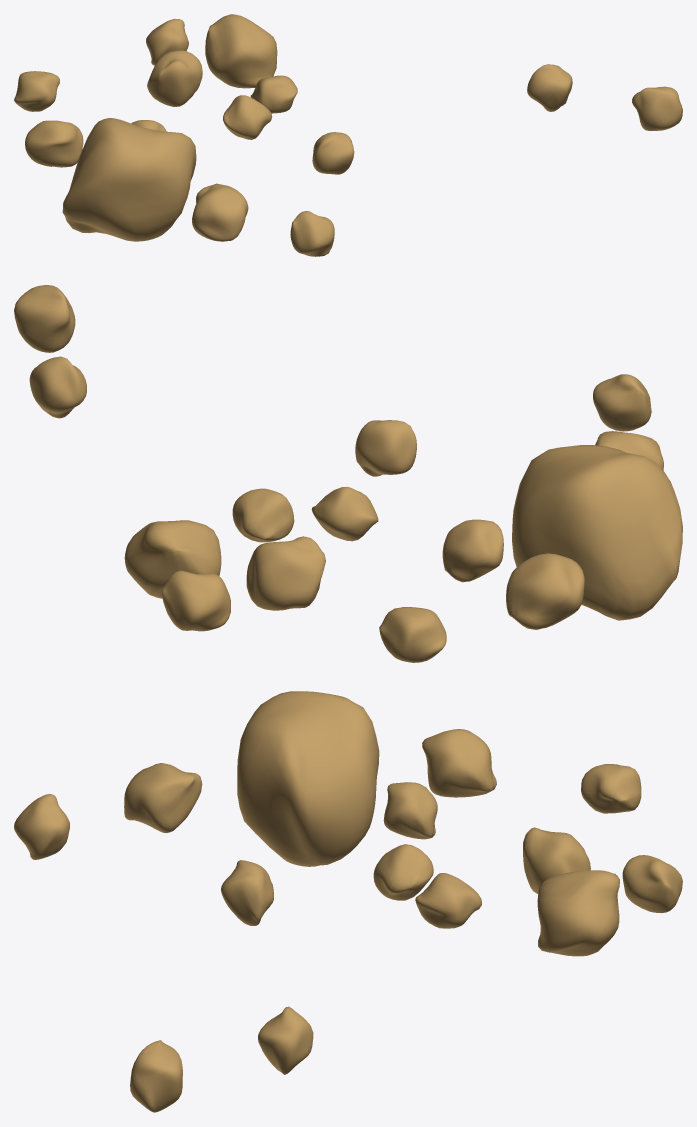
File: Rocks.FBX
The picture shows the model from 3 angles, top to bottom: view 1: azimuth 30°, elevation 25°; view 2: azimuth 150°, elevation 25°; view 3: azimuth 270°, elevation 25°; orthographic projection. The views are drawn at different scales.
Visible parts, largest first — view 1: Sphere002, Sphere005, Sphere004, Sphere010, Sphere013, Sphere003, Sphere011, Sphere012, Sphere016, Sphere017, Sphere014, Sphere006 (+1 smaller); view 2: Sphere002, Sphere005, Sphere010, Sphere013, Sphere018, Sphere003, Sphere007, Sphere017, Sphere014, Sphere006, Sphere011, Sphere012 (+2 smaller); view 3: Sphere002, Sphere005, Sphere013, Sphere004, Sphere003, Sphere010, Sphere018, Sphere007, Sphere006, Sphere017, Sphere011, Sphere016 (+2 smaller).
Boxes of the visible parts, left/top/right/bottom form: Sphere002: left=62, top=118, right=196, bottom=241; Sphere005: left=205, top=14, right=277, bottom=88; Sphere004: left=192, top=183, right=248, bottom=241; Sphere010: left=147, top=50, right=202, bottom=106; Sphere013: left=25, top=120, right=83, bottom=167; Sphere003: left=632, top=86, right=682, bottom=130; Sphere011: left=290, top=211, right=334, bottom=256; Sphere012: left=527, top=64, right=572, bottom=111; Sphere016: left=223, top=95, right=272, bottom=139; Sphere017: left=14, top=71, right=59, bottom=111; Sphere014: left=312, top=132, right=354, bottom=174; Sphere006: left=250, top=75, right=297, bottom=113; Sphere002: left=512, top=445, right=682, bottom=620; Sphere005: left=124, top=520, right=221, bottom=598; Sphere010: left=246, top=536, right=325, bottom=610; Sphere013: left=506, top=553, right=584, bottom=629; Sphere018: left=162, top=570, right=230, bottom=631; Sphere003: left=14, top=285, right=75, bottom=352; Sphere007: left=442, top=519, right=503, bottom=582; Sphere017: left=379, top=607, right=446, bottom=662; Sphere014: left=355, top=420, right=416, bottom=476; Sphere006: left=232, top=488, right=294, bottom=542; Sphere011: left=593, top=374, right=651, bottom=431; Sphere012: left=29, top=356, right=86, bottom=418; Sphere002: left=237, top=691, right=379, bottom=866; Sphere005: left=537, top=870, right=619, bottom=956; Sphere013: left=422, top=729, right=496, bottom=797; Sphere004: left=124, top=763, right=202, bottom=832; Sphere003: left=130, top=1040, right=182, bottom=1112; Sphere010: left=523, top=827, right=590, bottom=893; Sphere018: left=622, top=855, right=682, bottom=913; Sphere007: left=383, top=782, right=437, bottom=839; Sphere006: left=415, top=873, right=481, bottom=928; Sphere017: left=581, top=764, right=641, bottom=813; Sphere011: left=14, top=794, right=69, bottom=859; Sphere016: left=373, top=844, right=433, bottom=900.
Bounding box in the file's own units: 5.37 × 1.05 × 4.28.
